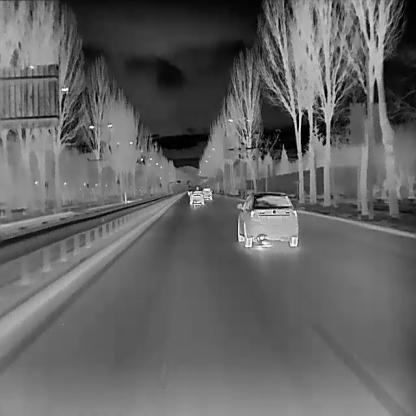car: (235, 189, 299, 247), (188, 188, 204, 204), (202, 186, 213, 199), (186, 188, 191, 194), (195, 185, 198, 189)
